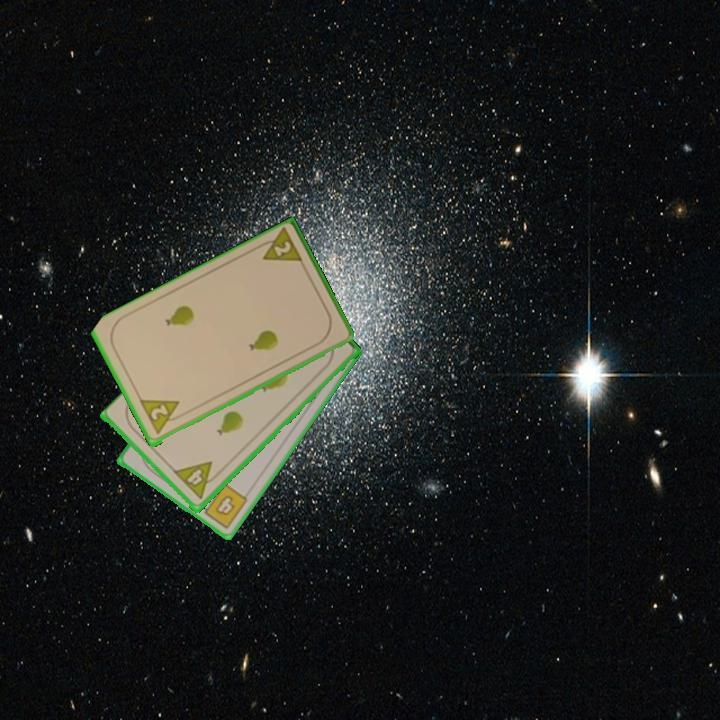2p: (137, 396, 187, 439), (270, 238, 294, 260)
4b: (195, 480, 251, 532)
4p: (171, 458, 224, 503)
